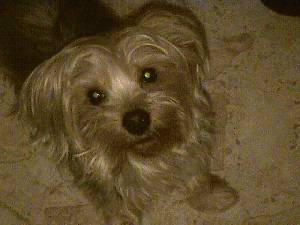dog-yorkshire_terrier: (21, 7, 205, 158)
